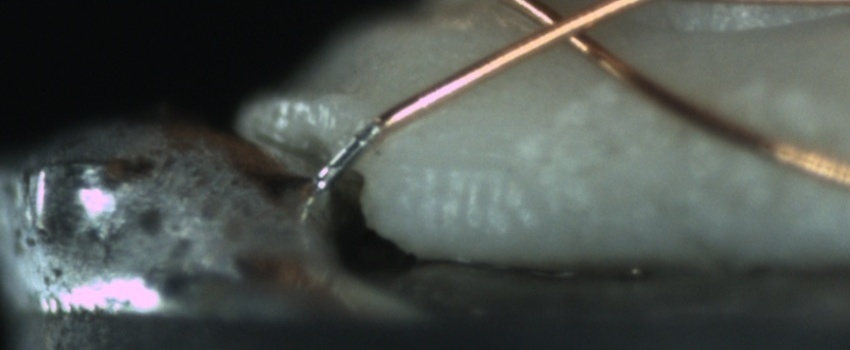CL: (515, 1, 615, 59)
DL: (385, 140, 518, 192)
TS: (315, 121, 384, 189)
